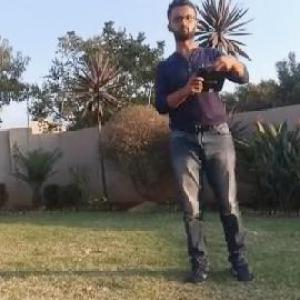follow: (149, 0, 260, 287)
